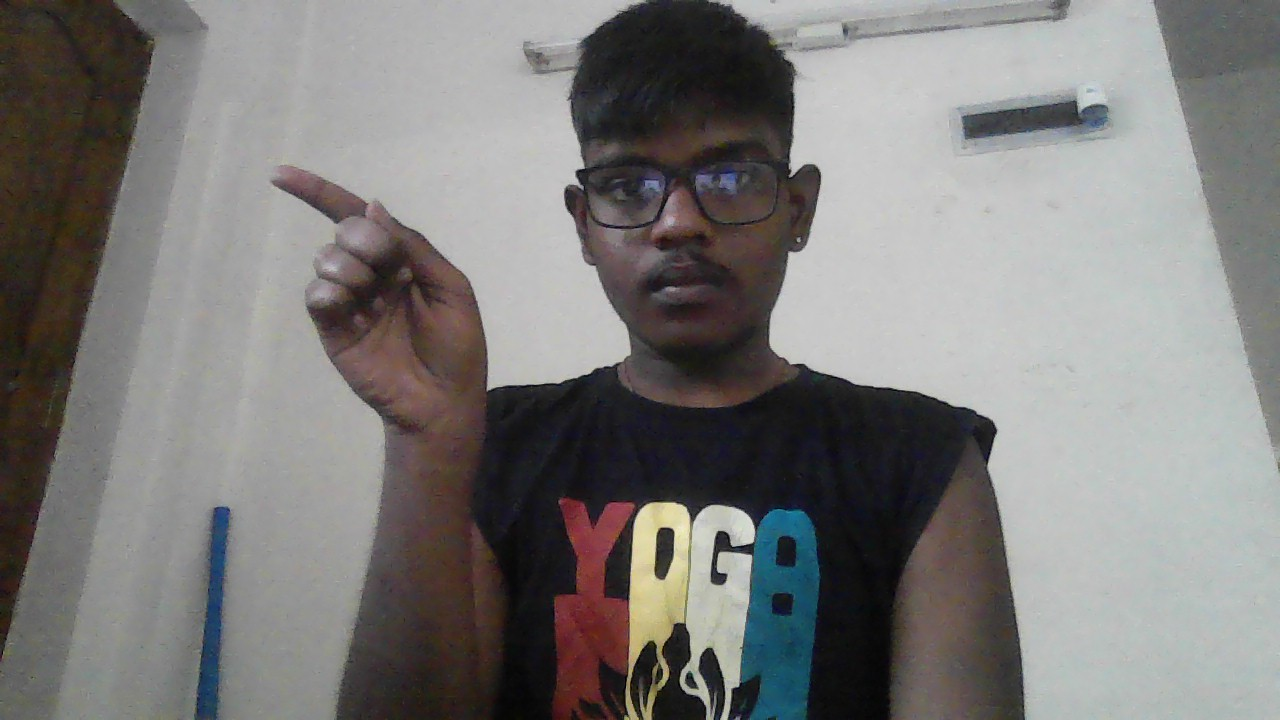G: (269, 163, 489, 437)
